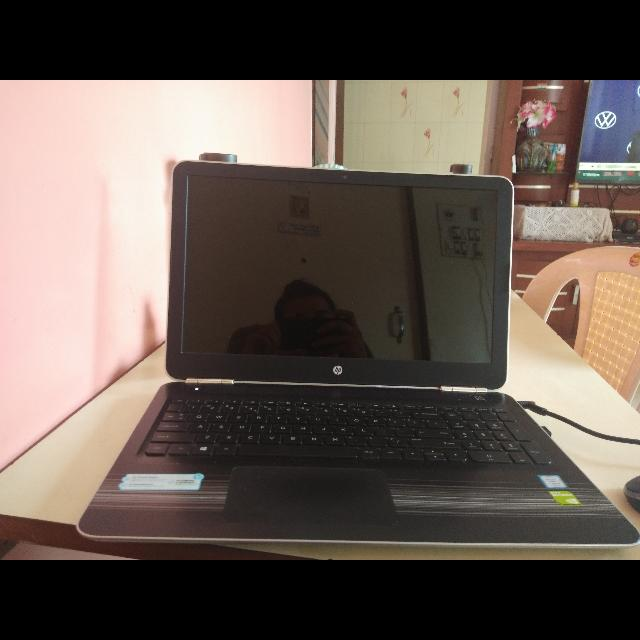Laptop: (70, 154, 640, 556)
